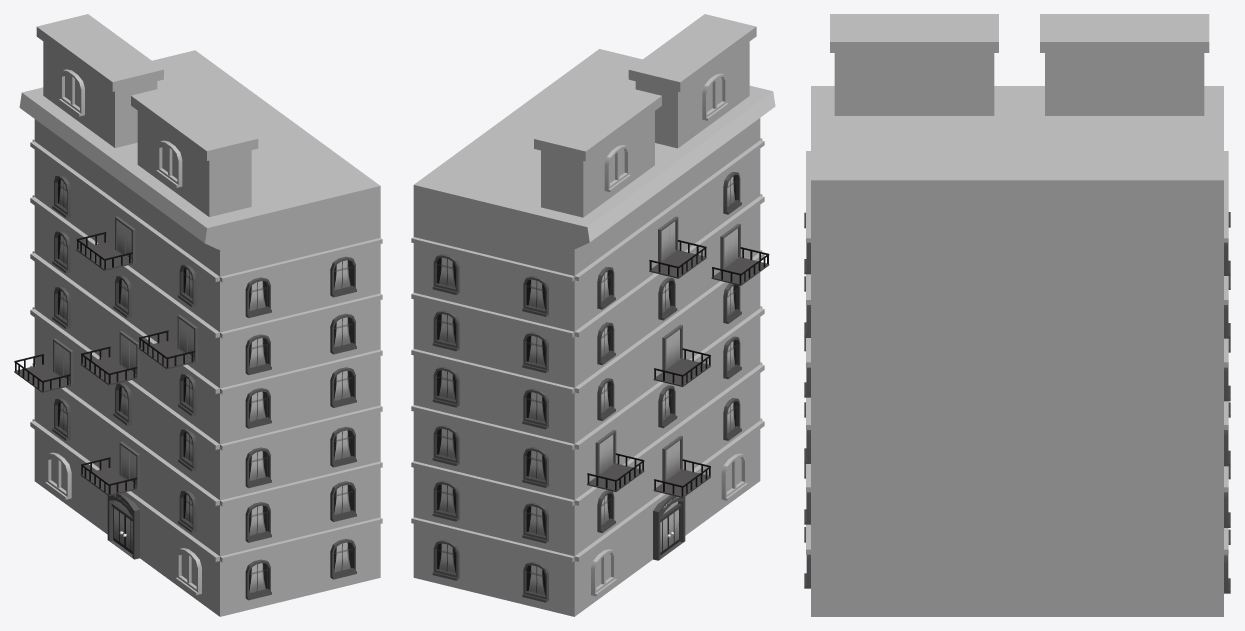
The model's file is Apartment_Outside_Uved 1.fbx.
The picture shows the model from 3 angles, left to right: view 1: azimuth 30°, elevation 25°; view 2: azimuth 150°, elevation 25°; view 3: azimuth 270°, elevation 25°; orthographic projection. The views are drawn at different scales.
Visible parts, largest first — view 1: Building_Apartment, Windows1, Balcony, Large_Window2, polySurface10; view 2: Building_Apartment, Windows1, Balcony, Large_Window2, polySurface10; view 3: Building_Apartment, Windows1.
Part boxes in pixels (x1=…): Building_Apartment: x1=19, y1=14, x2=382, y2=616; Windows1: x1=52, y1=175, x2=356, y2=600; Balcony: x1=14, y1=216, x2=197, y2=495; Large_Window2: x1=45, y1=69, x2=201, y2=595; polySurface10: x1=107, y1=493, x2=139, y2=559; Building_Apartment: x1=411, y1=14, x2=775, y2=616; Windows1: x1=432, y1=172, x2=741, y2=602; Balcony: x1=587, y1=216, x2=769, y2=497; Large_Window2: x1=591, y1=73, x2=747, y2=596; polySurface10: x1=653, y1=495, x2=685, y2=560; Building_Apartment: x1=806, y1=14, x2=1228, y2=616; Windows1: x1=804, y1=212, x2=1230, y2=593.
Bounding box in the file's own units: 35.8 × 82.28 × 61.91.
